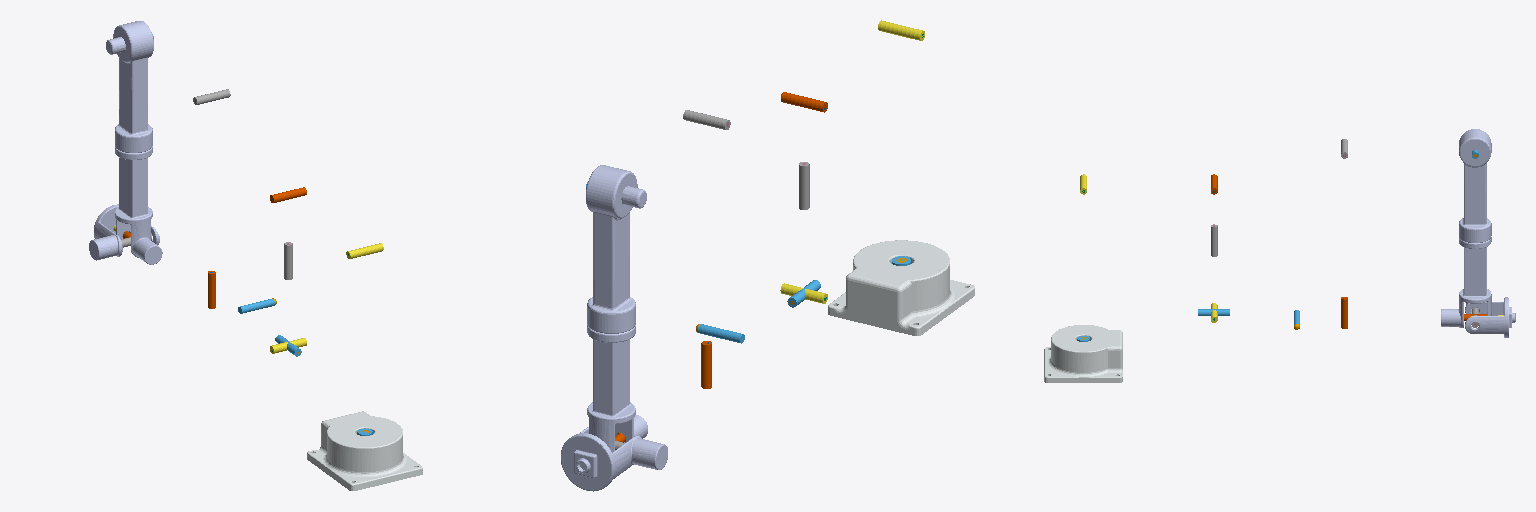
--- Render facts (derived) ---
3 views of the same robot in one strip: view 1: azimuth 30°, elevation 25°; view 2: azimuth 150°, elevation 25°; view 3: azimuth 270°, elevation 25° (orthographic).
Model twelvedof_new with 44 links and 43 joints (12 continuous, 31 fixed), rooted at world, posed every joint at zero.
Links seen in each view (by area): view 1: base_link, link9, link10, link12; view 2: base_link, link9, link10, link12; view 3: base_link, link9, link10, link12.
Link boxes in pixels (bbox=[...]): base_link: bbox=[307, 411, 422, 490]; link9: bbox=[106, 21, 153, 152]; link10: bbox=[115, 146, 162, 264]; link12: bbox=[89, 204, 159, 260]; base_link: bbox=[828, 240, 974, 335]; link9: bbox=[586, 165, 646, 333]; link10: bbox=[587, 325, 647, 452]; link12: bbox=[561, 427, 667, 491]; base_link: bbox=[1044, 325, 1122, 382]; link9: bbox=[1459, 129, 1491, 242]; link10: bbox=[1441, 237, 1491, 327]; link12: bbox=[1465, 297, 1515, 337].
Size in the robot's own frame: 0.235 by 1.44 by 0.791 metres.
4 mesh visuals loaded from 13 distinct referenced files (4 binary STL); not drawn: 9 (reference not matched to a file when rendering).

The robot description file, URDF, robot "twelvedof_new":
<?xml version="1.0" encoding="utf-8"?>
<!-- This URDF was automatically created by SolidWorks to URDF Exporter! Originally created by Stephen Brawner ([email redacted]) 
     Commit Version: 1.6.0-1-g15f4949  Build Version: 1.6.7594.29634
     For more information, please see http://wiki.ros.org/sw_urdf_exporter -->
<robot name="twelvedof_new">
  
  <link name="world"/>
    
  <joint name="worldjoint" type="fixed">
    <origin xyz="0 0 0" rpy="0 0 1.5708" />
    <parent link="world" />
    <child link="base_link" />
  </joint>

<!-- FIRST HALF OF ARM -->
  
  <link name="base_link">
    <visual>
      <origin xyz="0 0 0" rpy="0 0 0" />
      <geometry>
        <mesh filename="package://project/meshes/base_link.STL" />
      </geometry>
      <material name="">
        <color rgba="0.898039215686275 0.92156862745098 0.929411764705882 1" />
      </material>
    </visual>
    <!--<collision>
      <origin xyz="0 0 0" rpy="0 0 0" />
      <geometry>
        <mesh filename="package://project/meshes/base_link.STL" />
      </geometry>
    </collision>-->
  </link>
  
  <joint name="theta1" type="continuous">
    <origin xyz="0 0 0.0499999999999999" rpy="1.5707963267949 0 -3.14159265358979" />
    <parent link="base_link" />
    <child link="link1" />
    <axis xyz="0 1 0" />
    <dynamics damping="5.0"/>
  </joint>  
  
  <link name="link1">
    <visual>
      <origin xyz="0 0 0" rpy="0 0 0" />
      <geometry>
        <mesh filename="package://project/meshes/link1.STL" />
      </geometry>
      <material name="">
        <color rgba="0.792156862745098 0.819607843137255 0.933333333333333 1" />
      </material>
    </visual>
    <!--<collision>
      <origin xyz="0 0 0" rpy="0 0 0" />
      <geometry>
        <mesh filename="package://project/meshes/link1.STL" />
      </geometry>
    </collision>-->
  </link>
  
  <joint name="theta2" type="continuous">
    <origin xyz="0 0.57 0" rpy="0 -1.5707963267949 0" />
    <parent link="link1" />
    <child link="link2" />
    <axis xyz="1 0 0" />
    <dynamics damping="5.0"/>
  </joint>
  
  <link name="link2">
    <visual>
      <origin xyz="0 0 0" rpy="0 0 0" />
      <geometry>
        <mesh filename="package://project/meshes/link2.STL" />
      </geometry>
      <material name="">
        <color rgba="0.792156862745098 0.819607843137255 0.933333333333333 1" />
      </material>
    </visual>
    <!--<collision>
      <origin xyz="0 0 0" rpy="0 0 0" />
      <geometry>
        <mesh filename="package://project/meshes/link2.STL" />
      </geometry>
    </collision>-->
  </link>
    
  <joint name="theta3" type="continuous">
    <origin xyz="0 0 0.4" rpy="3.14159265358979 0 3.14159265358979" />
    <parent link="link2" />
    <child link="link3" />
    <axis xyz="1 0 0" />
    <dynamics damping="1.0"/>
  </joint>
  
  
  <link name="link3">
    <visual>
      <origin xyz="0 0 0" rpy="0 0 0" />
      <geometry>
        <mesh filename="package://project/meshes/link3.STL" />
      </geometry>
      <material name="">
        <color rgba="0.792156862745098 0.819607843137255 0.933333333333333 1" />
      </material>
    </visual>
    <!--<collision>
      <origin xyz="0 0 0" rpy="0 0 0" />
      <geometry>
        <mesh filename="package://project/meshes/link3.STL" />
      </geometry>
    </collision>-->
  </link>
  
  <joint name="theta4" type="continuous">
    <origin xyz="0 -0.19 0" rpy="3.14159265358979 0 3.14159265358979" />
    <parent link="link3" />
    <child link="link4" />
    <axis xyz="0 1 0" />
    <dynamics damping="0.2"/>
  </joint>
  
  <link name="link4">
    <visual>
      <origin xyz="0 0 0" rpy="0 3.14159265358979 0" />
      <geometry>
        <mesh filename="package://project/meshes/link4.STL" />
      </geometry>
      <material name="">
        <color rgba="0.792156862745098 0.819607843137255 0.933333333333333 1" />
      </material>
    </visual>
    <!--<collision>
      <origin xyz="0 0 0" rpy="0 3.14159265358979 0" />
      <geometry>
        <mesh filename="package://project/meshes/link4.STL" />
      </geometry>
    </collision>-->
  </link>
  
  <joint name="theta5" type="continuous">
    <origin xyz="0 -0.244 0" rpy="-1.5707963267949 0 3.14159265358979" />
    <parent link="link4" />
    <child link="link5" />
    <axis xyz="0 1 0" />
    <dynamics damping="0.2"/>
  </joint>
  
  <link name="link5">
    <visual>
      <origin xyz="0 0 0" rpy="0 0 0" />
      <geometry>
        <mesh filename="package://project/meshes/link5.STL" />
      </geometry>
      <material name="">
        <color rgba="0.792156862745098 0.819607843137255 0.933333333333333 1" />
      </material>
    </visual>
    <!--<collision>
      <origin xyz="0 0 0" rpy="0 0 0" />
      <geometry>
        <mesh filename="package://project/meshes/link5.STL" />
      </geometry>
    </collision>-->
  </link>

  <joint name="theta6" type="continuous">
    <origin xyz="0 0 0" rpy="3.1416 -1.5708 0" />
    <parent link="link5" />
    <child link="link6" />
    <axis xyz="0 0 1" />
    <dynamics damping="0.2"/>
  </joint>

  <link name="link6">
    <visual>
      <origin xyz="0 0 0" rpy="0 0 0" />
      <geometry>
        <mesh filename="package://project/meshes/link6.STL" />
      </geometry>
      <material name="">
        <color rgba="0.792156862745098 0.819607843137255 0.933333333333333 1" />
      </material>
    </visual>
    <!--<collision>
      <origin xyz="0 0 0" rpy="0 0 0" />
      <geometry>
        <mesh filename="package://project/meshes/link6.STL" />
      </geometry>
    </collision>-->
  </link>

  <joint name="final1" type="fixed">
    <parent link="link6"/>
    <child  link="tip_elbow"/>
    <origin xyz="0 0.2535 0.1" rpy="1.5708 0 -1.5708"/>
  </joint>

  <link name="tip_elbow"/>
  
 
 <!-- SECOND HALF OF ARM -->

  <joint name="theta7" type="continuous">
    <origin xyz="0 0.4 0" rpy="1.5707963267949 -1.5707963267949 0" />
    <parent link="link6" />
    <child link="link7" />
    <axis xyz="0 1 0" />
    <dynamics damping="5.0"/>
  </joint>

  <link name="link7">
    <visual>
      <origin xyz="0 0 0" rpy="0 0 0" />
      <geometry>
        <mesh filename="package://project/meshes/link7.STL" />
      </geometry>
      <material name="">
        <color rgba="0.792156862745098 0.819607843137255 0.933333333333333 1" />
      </material>
    </visual>
    <!--<collision>
      <origin xyz="0 0 0" rpy="0 0 0" />
      <geometry>
        <mesh filename="package://project/meshes/link7.STL" />
      </geometry>
    </collision>-->
  </link>

  <joint name="theta8" type="continuous">
    <origin xyz="0 0.555 0" rpy="0 0 3.14159265358979" />
    <parent link="link7" />
    <child link="link8" />
    <axis xyz="1 0 0" />
    <dynamics damping="5.0"/>
  </joint>
  
  <link name="link8">
    <visual>
      <origin xyz="0 0 0" rpy="0 0 0" />
      <geometry>
        <mesh filename="package://project/meshes/link8.STL" />
      </geometry>
      <material name="">
        <color rgba="0.792156862745098 0.819607843137255 0.933333333333333 1" />
      </material>
    </visual>
    <!--<collision>
      <origin xyz="0 0 0" rpy="0 0 0" />
      <geometry>
        <mesh filename="package://project/meshes/link8.STL" />
      </geometry>
    </collision>-->
  </link>

  <joint name="theta9" type="continuous">
    <origin xyz="0 0 -0.4" rpy="-3.14159263868864 0 0" />
    <parent link="link8" />
    <child link="link9" />
    <axis xyz="1 0 0" />
    <dynamics damping="1.0"/>
  </joint>


  <link name="link9">
    <visual>
      <origin xyz="0 0 0" rpy="0 0 0" />
      <geometry>
        <mesh filename="package://project/meshes/link9.STL" />
      </geometry>
      <material name="">
        <color rgba="0.792156862745098 0.819607843137255 0.933333333333333 1" />
      </material>
    </visual>
    <!--<collision>
      <origin xyz="0 0 0" rpy="0 0 0" />
      <geometry>
        <mesh filename="package://project/meshes/link9.STL" />
      </geometry>
    </collision>-->
  </link>

  <joint name="theta10" type="continuous">
    <origin xyz="0.005 -0.26 0" rpy="3.14159265358979 0 3.14159265358979" />
    <parent link="link9" />
    <child link="link10" />
    <axis xyz="0 1 0" />
    <dynamics damping="0.2"/>
  </joint>

  <link name="link10">
    <visual>
      <origin xyz="0 0 0" rpy="0 0 0" />
      <geometry>
        <mesh filename="package://project/meshes/link10.STL" />
      </geometry>
      <material name="">
        <color rgba="0.792156862745098 0.819607843137255 0.933333333333333 1" />
      </material>
    </visual>
    <!--<collision>
      <origin xyz="0 0 0" rpy="0 0 0" />
      <geometry>
        <mesh filename="package://project/meshes/link10.STL" />
      </geometry>
    </collision>-->
  </link>

  <joint name="theta11" type="continuous">
    <origin xyz="0 -0.314 0" rpy="-1.5707963267949 0 3.14159265358979" />
    <parent link="link10" />
    <child link="link11" />
    <axis xyz="0 1 0" />
    <dynamics damping="0.2"/>
  </joint>

  <link name="link11">
    <visual>
      <origin xyz="0 0 0" rpy="0 0 0" />
      <geometry>
        <mesh filename="package://project/meshes/link11.STL" />
      </geometry>
      <material name="">
        <color rgba="0.792156862745098 0.819607843137255 0.933333333333333 1" />
      </material>
    </visual>
    <!--<collision>
      <origin xyz="0 0 0" rpy="0 0 0" />
      <geometry>
        <mesh filename="package://project/meshes/link11.STL" />
      </geometry>
    </collision>-->
  </link>

  <joint name="theta12" type="continuous">
    <origin xyz="0 0 0" rpy="0 1.5707963267949 0" />
    <parent link="link11" />
    <child link="link12" />
    <axis xyz="0 0 1" />
    <dynamics damping="0.2"/>
  </joint>

  <link name="link12">
    <visual>
      <origin xyz="0 0 0" rpy="0 0 0" />
      <geometry>
        <mesh filename="package://project/meshes/link12.STL" />
      </geometry>
      <material name="">
        <color rgba="0.792156862745098 0.819607843137255 0.933333333333333 1" />
      </material>
    </visual>
    <!--<collision>
      <origin xyz="0 0 0" rpy="0 0 0" />
      <geometry>
        <mesh filename="package://project/meshes/link12.STL" />
      </geometry>
    </collision>-->
  </link>

  <joint name="final2" type="fixed">
    <parent link="link12"/>
    <child  link="tip_full"/>
    <origin xyz="0 0.1 0" rpy="0 -1.5708 0"/>
  </joint>

  <link name="tip_full"/>













  <!-- *************************************************** -->
  <!-- ****** Building Blocks (Visual AND Inertial) ****** -->
  <!-- *************************************************** -->

  <!-- *** base_link-Fixed: Mount 1, Motor 1 *** -->

  <joint name="attach-mount1" type="fixed">
    <parent link="base_link"/>
    <child  link="mount1"/>
  </joint>
  <link name="mount1">
    <visual>
      <origin xyz="0 0 0.05" rpy="0 0 0"/>
      <geometry>
  <cylinder length="0.1" radius="0.011"/>
      </geometry>
      <material name="black"/>
    </visual>
    <collision>
      <origin xyz="0 0 0.05" rpy="0 0 0"/>
      <geometry>
  <cylinder length="0.1" radius="0.011"/>
      </geometry>
    </collision>
    <inertial>
      <origin xyz="0 0 0.05" rpy="0 0 0"/>
      <mass value="0.2"/>
      <inertia
        ixx="0.000687" ixy="0.0" ixz="0.0"
        iyy="0.000687" iyz="0.0"
        izz="0.000040"/>
    </inertial>
  </link>

  <joint name="attach-motor1" type="fixed">
    <parent link="base_link"/>
    <child  link="motor1"/>
  </joint>
  <link name="motor1">
    <visual>
      <origin xyz="0 0 0.05" rpy="0 0 0"/>
      <geometry>
  <cylinder length="0.1" radius="0.02"/>
      </geometry>
      <material name="gray"/>
    </visual>
    <collision>
      <origin xyz="0 0 0.05" rpy="0 0 0"/>
      <geometry>
  <cylinder length="0.1" radius="0.02"/>
      </geometry>
    </collision>
    <inertial>
      <origin xyz="0 0 0.05" rpy="0 0 0"/>
      <mass value="2.0"/>
      <inertia
        ixx="0.007917" ixy="0.0" ixz="0.0"
        iyy="0.007917" iyz="0.0"
        izz="0.002500"/>
    </inertial>
  </link>


  <!-- *** Motor 1 Output: Mount 2, Motor 2 *** -->

  <joint name="attach-mount2" type="fixed">
    <parent link="link1"/>
    <child  link="mount2"/>
  </joint>
  <link name="mount2">
    <visual>
      <origin xyz="0 0.57 0" rpy="0 0 -1.5708"/>
      <geometry>
  <cylinder length="0.1" radius="0.005"/>
      </geometry>
      <material name="black"/>
    </visual>
    <collision>
      <origin xyz="0 0.57 0" rpy="0 0 -1.5708"/>
      <geometry>
  <cylinder length="0.1" radius="0.005"/>
      </geometry>
    </collision>
    <inertial>
      <origin xyz="0 0.57 0" rpy="0 0 -1.5708"/>
      <mass value="0.2"/>
      <inertia
        ixx="0.000687" ixy="0.0" ixz="0.0"
        iyy="0.000687" iyz="0.0"
        izz="1.000040"/>
    </inertial>
  </link>

  <joint name="attach-motor2" type="fixed">
    <parent link="link1"/>
    <child  link="motor2"/>
  </joint>
  <link name="motor2">
    <visual>
      <origin xyz="0 0.57 0" rpy="0 0 -1.5708"/>
      <geometry>
  <cylinder length="0.1" radius="0.011"/>
      </geometry>
      <material name="gray"/>
    </visual>
    <collision>
      <origin xyz="0 0.57 0" rpy="0 0 -1.5708"/>
      <geometry>
  <cylinder length="0.1" radius="0.011"/>
      </geometry>
    </collision>
    <inertial>
      <origin xyz="0 0.57 0" rpy="0 0 -1.5708"/>
      <mass value="2.0"/>
      <inertia
        ixx="0.007917" ixy="0.0" ixz="0.0"
        iyy="0.007917" iyz="0.0"
        izz="0.002500"/>
    </inertial>
  </link>


  <!-- *** Motor 2 Output: Mount 3, Motor 3 *** -->

  <joint name="attach-mount3" type="fixed">
    <parent link="link2"/>
    <child  link="mount3"/>
  </joint>
  <link name="mount3">
    <visual>
      <origin xyz="0 0 0.4" rpy="0 -1.5708 0"/>
      <geometry>
  <cylinder length="0.1" radius="0.005"/>
      </geometry>
      <material name="black"/>
    </visual>
    <collision>
      <origin xyz="0 0 0.4" rpy="0 -1.5708 0"/>
      <geometry>
  <cylinder length="0.1" radius="0.005"/>
      </geometry>
    </collision>
    <inertial>
      <origin xyz="0 0 0.4" rpy="0 -1.5708 0"/>
      <mass value="0.2"/>
      <inertia
        ixx="1.000687" ixy="0.0" ixz="0.0"
        iyy="0.000687" iyz="0.0"
        izz="0.000040"/>
    </inertial>
  </link>

  <joint name="attach-motor3" type="fixed">
    <parent link="link2"/>
    <child  link="motor3"/>
  </joint>
  <link name="motor3">
    <visual>
      <origin xyz="0 0 0.4" rpy="0 -1.5708 0"/>
      <geometry>
  <cylinder length="0.1" radius="0.011"/>
      </geometry>
      <material name="gray"/>
    </visual>
    <collision>
      <origin xyz="0 0 0.4" rpy="0 -1.5708 0"/>
      <geometry>
  <cylinder length="0.1" radius="0.011"/>
      </geometry>
    </collision>
    <inertial>
      <origin xyz="0 0 0.4" rpy="0 -1.5708 0"/>
      <mass value="2.0"/>
      <inertia
        ixx="0.007917" ixy="0.0" ixz="0.0"
        iyy="0.007917" iyz="0.0"
        izz="0.002500"/>
    </inertial>
  </link>


  <!-- *** Motor 3 Output: Mount 4, Motor 4 *** -->

  <joint name="attach-mount4" type="fixed">
    <parent link="link3"/>
    <child  link="mount4"/>
  </joint>
  <link name="mount4">
    <visual>
      <origin xyz="0 -0.19 0" rpy="-1.5708 0 0"/>
      <geometry>
  <cylinder length="0.1" radius="0.005"/>
      </geometry>
      <material name="black"/>
    </visual>
    <collision>
      <origin xyz="0 -0.19 0" rpy="-1.5708 0 0"/>
      <geometry>
  <cylinder length="0.1" radius="0.005"/>
      </geometry>
    </collision>
    <inertial>
      <origin xyz="0 -0.19 0" rpy="-1.5708 0 0"/>
      <mass value="0.2"/>
      <inertia
        ixx="0.000687" ixy="0.0" ixz="0.0"
        iyy="0.000687" iyz="0.0"
        izz="1.000040"/>
    </inertial>
  </link>

  <joint name="attach-motor4" type="fixed">
    <parent link="link3"/>
    <child  link="motor4"/>
  </joint>
  <link name="motor4">
    <visual>
      <origin xyz="0 -0.19 0" rpy="-1.5708 0 0"/>
      <geometry>
  <cylinder length="0.1" radius="0.011"/>
      </geometry>
      <material name="gray"/>
    </visual>
    <collision>
      <origin xyz="0 -0.19 0" rpy="-1.5708 0 0"/>
      <geometry>
  <cylinder length="0.1" radius="0.011"/>
      </geometry>
    </collision>
    <inertial>
      <origin xyz="0 -0.19 0" rpy="-1.5708 0 0"/>
      <mass value="1.0"/>
      <inertia
        ixx="0.000990" ixy="0.0" ixz="0.0"
        iyy="0.000990" iyz="0.0"
        izz="0.000313"/>
    </inertial>
  </link>


  <!-- *** Motor 4 Output: Mount 5, Motor 5 *** -->

  <joint name="attach-mount5" type="fixed">
    <parent link="link4"/>
    <child  link="mount5"/>
  </joint>
  <link name="mount5">
    <visual>
      <origin xyz="0 -0.244 0" rpy="0 0 -1.5708"/>
      <geometry>
  <cylinder length="0.1" radius="0.005"/>
      </geometry>
      <material name="black"/>
    </visual>
    <collision>
      <origin xyz="0 -0.244 0" rpy="0 0 -1.5708"/>
      <geometry>
  <cylinder length="0.1" radius="0.005"/>
      </geometry>
    </collision>
    <inertial>
      <origin xyz="0 -0.244 0" rpy="0 0 -1.5708"/>
      <mass value="0.2"/>
      <inertia
        ixx="0.500687" ixy="0.0" ixz="0.0"
        iyy="0.000687" iyz="0.0"
        izz="0.000040"/>
    </inertial>
  </link>

  <joint name="attach-motor5" type="fixed">
    <parent link="link4"/>
    <child  link="motor5"/>
  </joint>
  <link name="motor5">
    <visual>
      <origin xyz="0 -0.244 0" rpy="0 0 -1.5708"/>
      <geometry>
  <cylinder length="0.1" radius="0.011"/>
      </geometry>
      <material name="gray"/>
    </visual>
    <collision>
      <origin xyz="0 -0.244 0" rpy="0 0 -1.5708"/>
      <geometry>
  <cylinder length="0.1" radius="0.011"/>
      </geometry>
    </collision>
    <inertial>
      <origin xyz="0 -0.244 0" rpy="0 0 -1.5708"/>
       <mass value="1.0"/>
      <inertia
        ixx="0.000990" ixy="0.0" ixz="0.0"
        iyy="0.000990" iyz="0.0"
        izz="0.000313"/>
    </inertial>
  </link>


  <!-- *** Motor 5 Output: Mount 6, Motor 6 *** -->

  <joint name="attach-mount6" type="fixed">
    <parent link="link5"/>
    <child  link="mount6"/>
  </joint>
  <link name="mount6">
    <visual>
      <origin xyz="0 0 0" rpy="3.1416 -1.5708 0"/>
      <geometry>
  <cylinder length="0.1" radius="0.005"/>
      </geometry>
      <material name="black"/>
    </visual>
    <collision>
      <origin xyz="0 0 0" rpy="3.1416 -1.5708 0"/>
      <geometry>
  <cylinder length="0.1" radius="0.005"/>
      </geometry>
    </collision>
    <inertial>
      <origin xyz="0 0 0" rpy="3.1416 -1.5708 0"/>
      <mass value="0.1"/>
      <inertia
        ixx="0.000336" ixy="0.0" ixz="0.0"
        iyy="0.000336" iyz="0.0"
        izz="0.500005"/>
    </inertial>
  </link>

  <joint name="attach-motor6" type="fixed">
    <parent link="link5"/>
    <child  link="motor6"/>
  </joint>
  <link name="motor6">
    <visual>
      <origin xyz="0 0 0" rpy="3.1416 -1.5708 0"/>
      <geometry>
  <cylinder length="0.1" radius="0.011"/>
      </geometry>
      <material name="gray"/>
    </visual>
    <collision>
      <origin xyz="0 0 0" rpy="3.1416 -1.5708 0"/>
      <geometry>
  <cylinder length="0.1" radius="0.011"/>
      </geometry>
    </collision>
    <inertial>
      <origin xyz="0 0 0" rpy="3.1416 -1.5708 0"/>
       <mass value="1.0"/>
      <inertia
        ixx="0.500990" ixy="0.0" ixz="0.0"
        iyy="0.000990" iyz="0.0"
        izz="0.000313"/>
    </inertial>
  </link>


  <!-- *** Motor 6 Output: Mount 7, Motor 7 *** -->

  <joint name="attach-mount7" type="fixed">
    <parent link="link6"/>
    <child  link="mount7"/>
  </joint>
  <link name="mount7">
    <visual>
      <origin xyz="0 0.4 0" rpy="0 1.5708 0"/>
      <geometry>
  <cylinder length="0.1" radius="0.005"/>
      </geometry>
      <material name="black"/>
    </visual>
    <collision>
      <origin xyz="0 0.4 0" rpy="0 1.5708 0"/>
      <geometry>
  <cylinder length="0.1" radius="0.005"/>
      </geometry>
    </collision>
    <inertial>
      <origin xyz="0 0.4 0" rpy="0 1.5708 0"/>
      <mass value="0.1"/>
      <inertia
        ixx="0.000687" ixy="0.0" ixz="0.0"
        iyy="0.000687" iyz="0.0"
        izz="0.000040"/>
    </inertial>
  </link>

  <joint name="attach-motor7" type="fixed">
    <parent link="link6"/>
    <child  link="motor7"/>
  </joint>
  <link name="motor7">
    <visual>
      <origin xyz="0 0.4 0" rpy="0 1.5708 0"/>
      <geometry>
  <cylinder length="0.1" radius="0.011"/>
      </geometry>
      <material name="gray"/>
    </visual>
    <collision>
      <origin xyz="0 0.4 0" rpy="0 1.5708 0"/>
      <geometry>
  <cylinder length="0.1" radius="0.011"/>
      </geometry>
    </collision>
    <inertial>
      <origin xyz="0 0.4 0" rpy="0 1.5708 0"/>
      <mass value="0.1"/>
      <inertia
        ixx="0.007917" ixy="0.0" ixz="0.0"
        iyy="0.007917" iyz="0.0"
        izz="0.002500"/>
    </inertial>
  </link>


  <!-- *** Motor 7 Output: Mount 8, Motor 8 *** -->

  <joint name="attach-mount8" type="fixed">
    <parent link="link7"/>
    <child  link="mount8"/>
  </joint>
  <link name="mount8">
    <visual>
      <origin xyz="0 0.555 0" rpy="0 1.5708 0"/>
      <geometry>
  <cylinder length="0.1" radius="0.005"/>
      </geometry>
      <material name="black"/>
    </visual>
    <collision>
      <origin xyz="0 0.555 0" rpy="0 1.5708 0"/>
      <geometry>
  <cylinder length="0.1" radius="0.005"/>
      </geometry>
    </collision>
    <inertial>
      <origin xyz="0 0.555 0" rpy="0 1.5708 0"/>
      <mass value="0.1"/>
      <inertia
        ixx="0.000687" ixy="0.0" ixz="0.0"
        iyy="0.000687" iyz="0.0"
        izz="1.000040"/>
    </inertial>
  </link>

  <joint name="attach-motor8" type="fixed">
    <parent link="link7"/>
    <child  link="motor8"/>
  </joint>
  <link name="motor8">
    <visual>
      <origin xyz="0 0.555 0" rpy="0 1.5708 0"/>
      <geometry>
  <cylinder length="0.1" radius="0.011"/>
      </geometry>
      <material name="gray"/>
    </visual>
    <collision>
      <origin xyz="0 0.555 0" rpy="0 1.5708 0"/>
      <geometry>
  <cylinder length="0.1" radius="0.011"/>
      </geometry>
    </collision>
    <inertial>
      <origin xyz="0 0.555 0" rpy="0 1.5708 0"/>
      <mass value="0.1"/>
      <inertia
        ixx="0.007917" ixy="0.0" ixz="0.0"
        iyy="0.007917" iyz="0.0"
        izz="0.002500"/>
    </inertial>
  </link>


  <!-- *** Motor 8 Output: Mount 9, Motor 9 *** -->

  <joint name="attach-mount9" type="fixed">
    <parent link="link8"/>
    <child  link="mount9"/>
  </joint>
  <link name="mount9">
    <visual>
      <origin xyz="0 0 -0.4" rpy="0 -1.5708 0"/>
      <geometry>
  <cylinder length="0.1" radius="0.005"/>
      </geometry>
      <material name="black"/>
    </visual>
    <collision>
      <origin xyz="0 0 -0.4" rpy="0 -1.5708 0"/>
      <geometry>
  <cylinder length="0.1" radius="0.005"/>
      </geometry>
    </collision>
    <inertial>
      <origin xyz="0 0 -0.4" rpy="0 -1.5708 0"/>
      <mass value="0.1"/>
      <inertia
        ixx="1.000687" ixy="0.0" ixz="0.0"
        iyy="0.000687" iyz="0.0"
        izz="0.000040"/>
    </inertial>
  </link>

  <joint name="attach-motor9" type="fixed">
    <parent link="link8"/>
    <child  link="motor9"/>
  </joint>
  <link name="motor9">
    <visual>
      <origin xyz="0 0 -0.4" rpy="0 -1.5708 0"/>
      <geometry>
  <cylinder length="0.1" radius="0.011"/>
      </geometry>
      <material name="gray"/>
    </visual>
    <collision>
      <origin xyz="0.005 0 -0.4" rpy="0 -1.5708 0"/>
      <geometry>
  <cylinder length="0.1" radius="0.011"/>
      </geometry>
    </collision>
    <inertial>
      <origin xyz="0 0 -0.4" rpy="0 -1.5708 0"/>
      <mass value="0.1"/>
      <inertia
        ixx="0.007917" ixy="0.0" ixz="0.0"
        iyy="0.007917" iyz="0.0"
        izz="0.002500"/>
    </inertial>
  </link>


  <!-- *** Motor 9 Output: Mount 10, Motor 10 *** -->

  <joint name="attach-mount10" type="fixed">
    <parent link="link9"/>
    <child  link="mount10"/>
  </joint>
  <link name="mount10">
    <visual>
      <origin xyz="0.005 -0.26 0" rpy="-1.5708 0 0"/>
      <geometry>
  <cylinder length="0.1" radius="0.005"/>
      </geometry>
      <material name="black"/>
    </visual>
    <collision>
      <origin xyz="0.005 -0.26 0" rpy="-1.5708 0 0"/>
      <geometry>
  <cylinder length="0.1" radius="0.005"/>
      </geometry>
    </collision>
    <inertial>
      <origin xyz="0.005 -0.26 0" rpy="-1.5708 0 0"/>
      <mass value="0.1"/>
      <inertia
        ixx="0.000687" ixy="0.0" ixz="0.0"
        iyy="0.000687" iyz="0.0"
        izz="1.000040"/>
    </inertial>
  </link>

  <joint name="attach-motor10" type="fixed">
    <parent link="link9"/>
    <child  link="motor10"/>
  </joint>
  <link name="motor10">
    <visual>
      <origin xyz="0.005 -0.26 0" rpy="-1.5708 0 0"/>
      <geometry>
  <cylinder length="0.1" radius="0.011"/>
      </geometry>
      <material name="gray"/>
    </visual>
    <collision>
      <origin xyz="0.005 -0.26 0" rpy="-1.5708 0 0"/>
      <geometry>
  <cylinder length="0.1" radius="0.011"/>
      </geometry>
    </collision>
    <inertial>
      <origin xyz="0.005 -0.26 0" rpy="-1.5708 0 0"/>
      <mass value="0.1"/>
      <inertia
        ixx="0.000990" ixy="0.0" ixz="0.0"
        iyy="0.000990" iyz="0.0"
        izz="0.000313"/>
    </inertial>
  </link>


  <!-- *** Motor 10 Output: Mount 11, Motor 11 *** -->

  <joint name="attach-mount11" type="fixed">
    <parent link="link10"/>
    <child  link="mount11"/>
  </joint>
  <link name="mount11">
    <visual>
      <origin xyz="0 -0.314 0" rpy="0 0 -1.5708"/>
      <geometry>
  <cylinder length="0.1" radius="0.005"/>
      </geometry>
      <material name="black"/>
    </visual>
    <collision>
      <origin xyz="0 -0.314 0" rpy="0 0 -1.5708"/>
      <geometry>
  <cylinder length="0.1" radius="0.005"/>
      </geometry>
    </collision>
    <inertial>
      <origin xyz="0 -0.314 0" rpy="0 0 -1.5708"/>
      <mass value="0.1"/>
      <inertia
        ixx="0.500687" ixy="0.0" ixz="0.0"
        iyy="0.000687" iyz="0.0"
        izz="0.000040"/>
    </inertial>
  </link>

  <joint name="attach-motor11" type="fixed">
    <parent link="link10"/>
    <child  link="motor11"/>
  </joint>
  <link name="motor11">
    <visual>
      <origin xyz="0 -0.314 0" rpy="0 0 -1.5708"/>
      <geometry>
  <cylinder length="0.1" radius="0.011"/>
      </geometry>
      <material name="gray"/>
    </visual>
    <collision>
      <origin xyz="0 -0.314 0" rpy="0 0 -1.5708"/>
      <geometry>
  <cylinder length="0.1" radius="0.011"/>
      </geometry>
    </collision>
    <inertial>
      <origin xyz="0 -0.314 0" rpy="0 0 -1.5708"/>
      <mass value="0.1"/>
      <inertia
        ixx="0.000990" ixy="0.0" ixz="0.0"
        iyy="0.000990" iyz="0.0"
        izz="0.000313"/>
    </inertial>
  </link>


  <!-- *** Motor 11 Output: Mount 12, Motor 12 *** -->

  <joint name="attach-mount12" type="fixed">
    <parent link="link11"/>
    <child  link="mount12"/>
  </joint>
  <link name="mount12">
    <visual>
      <origin xyz="0 0 0" rpy="3.1416 -1.5708 0"/>
      <geometry>
  <cylinder length="0.1" radius="0.005"/>
      </geometry>
      <material name="black"/>
    </visual>
    <collision>
      <origin xyz="0 0 0" rpy="3.1416 -1.5708 0"/>
      <geometry>
  <cylinder length="0.1" radius="0.005"/>
      </geometry>
    </collision>
    <inertial>
      <origin xyz="0 0 0" rpy="3.1416 -1.5708 0"/>
      <mass value="0.1"/>
      <inertia
        ixx="0.000336" ixy="0.0" ixz="0.0"
        iyy="0.000336" iyz="0.0"
        izz="0.500005"/>
    </inertial>
  </link>

  <joint name="attach-motor12" type="fixed">
    <parent link="link11"/>
    <child  link="motor12"/>
  </joint>
  <link name="motor12">
    <visual>
      <origin xyz="0 0 0" rpy="3.1416 -1.5708 0"/>
      <geometry>
  <cylinder length="0.1" radius="0.011"/>
      </geometry>
      <material name="gray"/>
    </visual>
    <collision>
      <origin xyz="0 0 0" rpy="3.1416 -1.5708 0"/>
      <geometry>
  <cylinder length="0.1" radius="0.011"/>
      </geometry>
    </collision>
    <inertial>
      <origin xyz="0 0 0" rpy="3.1416 -1.5708 0"/>
      <mass value="0.1"/>
      <inertia
        ixx="0.500990" ixy="0.0" ixz="0.0"
        iyy="0.000990" iyz="0.0"
        izz="0.000313"/>
    </inertial>
  </link>



  <!-- *** Motor 6 Output: Sphere1 *** -->

  <joint name="attach-sphere" type="fixed">
    <parent link="tip_elbow"/>
    <child  link="sphere"/>
  </joint>
  <link name="sphere">
    <visual>
      <origin xyz="0 0 0" rpy="0 0 0"/>
      <geometry>
	      <sphere radius="0.01"/>
      </geometry>
      <material name="green"/>
    </visual>
    <collision>
      <origin xyz="0 0 -0.05" rpy="0 0 0"/>
      <geometry>
	      <sphere radius="0.01"/>
      </geometry>
      <material name="green"/>
    </collision>
    <inertial>
      <origin xyz="0 0 0" rpy="0 0 0"/>
      <mass value="0.01"/>
      <inertia
        ixx="0.01" ixy="0.0" ixz="0.0"
        iyy="0.01" iyz="0.0"
        izz="0.01"/>
    </inertial>
  </link>

  <joint name="attach-cylinder" type="fixed">
    <parent link="tip_elbow"/>
    <child  link="cylinder"/>
  </joint>
  <link name="cylinder">
    <visual>
      <origin xyz="0 -0.05 0" rpy="1.5708 0 0"/>
      <geometry>
	      <cylinder length="0.1" radius="0.01"/>
      </geometry>
      <material name="gray"/>
    </visual>
    <collision>
      <origin xyz="0 -0.05 0" rpy="1.5708 0 0"/>
      <geometry>
	      <cylinder length="0.1" radius="0.01"/>
      </geometry>
    </collision>
    <inertial>
      <origin xyz="0 0 0" rpy="1.5708 0 0"/>
      <mass value="0.01"/>
      <inertia
        ixx="0.500990" ixy="0.0" ixz="0.0"
        iyy="0.000990" iyz="0.0"
        izz="0.000313"/>
    </inertial>
  </link>

  <!-- *** Motor 12 Output: Sphere2 *** -->

  <joint name="attach-sphere2" type="fixed">
    <parent link="tip_full"/>
    <child  link="sphere2"/>
  </joint>
  <link name="sphere2">
    <visual>
      <origin xyz="0 0 0" rpy="0 0 0"/>
      <geometry>
	      <sphere radius="0.01"/>
      </geometry>
      <material name="green"/>
    </visual>
    <collision>
      <origin xyz="0 -0.05 0" rpy="0 0 0"/>
      <geometry>
	      <sphere radius="0.01"/>
      </geometry>
      <material name="green"/>
    </collision>
    <inertial>
      <origin xyz="0 0 0" rpy="0 0 0"/>
      <mass value="0.1"/>
      <inertia
        ixx="0.01" ixy="0.0" ixz="0.0"
        iyy="0.01" iyz="0.0"
        izz="0.01"/>
    </inertial>
  </link>

  <joint name="attach-cylinder2" type="fixed">
    <parent link="tip_full"/>
    <child  link="cylinder2"/>
  </joint>
  <link name="cylinder2">
    <visual>
      <origin xyz="0 -0.015 0" rpy="1.5708 0 0"/>
      <geometry>
	      <cylinder length="0.03" radius="0.01"/>
      </geometry>
      <material name="gray"/>
    </visual>
    <collision>
      <origin xyz="0 -0.015 0" rpy="1.5708 0 0"/>
      <geometry>
	      <cylinder length="0.03" radius="0.01"/>
      </geometry>
    </collision>
    <inertial>
      <origin xyz="0 0 0" rpy="1.5708 0 0"/>
      <mass value="0.1"/>
      <inertia
        ixx="0.500990" ixy="0.0" ixz="0.0"
        iyy="0.000990" iyz="0.0"
        izz="0.000313"/>
    </inertial>
  </link>



  <!-- *************************************************** -->
  <!-- ******************* Gazebo Colors ***************** -->
  <!-- *************************************************** -->
  <gazebo reference="base_link"> <material>Gazebo/Gray</material>  </gazebo>
  <gazebo reference="link1"> <material>Gazebo/Grass</material>  </gazebo>
  <gazebo reference="link2"> <material>Gazebo/Grass</material>  </gazebo>
  <gazebo reference="link3"> <material>Gazebo/Grass</material>  </gazebo>
  <gazebo reference="link4"> <material>Gazebo/Grass</material>  </gazebo>
  <gazebo reference="link5"> <material>Gazebo/Grass</material>  </gazebo>
  <gazebo reference="link6"> <material>Gazebo/Grass</material>  </gazebo>
  <gazebo reference="link7"> <material>Gazebo/Grass</material>  </gazebo>
  <gazebo reference="link8"> <material>Gazebo/Grass</material>  </gazebo>
  <gazebo reference="link9"> <material>Gazebo/Grass</material>  </gazebo>
  <gazebo reference="link10"> <material>Gazebo/Grass</material>  </gazebo>
  <gazebo reference="link11"> <material>Gazebo/Grass</material>  </gazebo>
  <gazebo reference="link12"> <material>Gazebo/Grass</material>  </gazebo>

  <gazebo reference="motor1"> <material>Gazebo/Gray</material>  </gazebo>
  <gazebo reference="motor2"> <material>Gazebo/Gray</material>  </gazebo>
  <gazebo reference="motor3"> <material>Gazebo/Gray</material>  </gazebo>
  <gazebo reference="motor4"> <material>Gazebo/Gray</material>  </gazebo>
  <gazebo reference="motor5"> <material>Gazebo/Gray</material>  </gazebo>
  <gazebo reference="motor6"> <material>Gazebo/Gray</material>  </gazebo>
  <gazebo reference="motor7"> <material>Gazebo/Gray</material>  </gazebo>
  <gazebo reference="motor8"> <material>Gazebo/Gray</material>  </gazebo>
  <gazebo reference="motor9"> <material>Gazebo/Gray</material>  </gazebo>
  <gazebo reference="motor10"> <material>Gazebo/Gray</material>  </gazebo>
  <gazebo reference="motor11"> <material>Gazebo/Gray</material>  </gazebo>
  <gazebo reference="motor12"> <material>Gazebo/Gray</material>  </gazebo>

  <gazebo reference="mount1">   <material>Gazebo/Black</material> </gazebo>
  <gazebo reference="mount2">   <material>Gazebo/Black</material> </gazebo>
  <gazebo reference="mount3">   <material>Gazebo/Black</material> </gazebo>
  <gazebo reference="mount4">   <material>Gazebo/Black</material> </gazebo>
  <gazebo reference="mount5">   <material>Gazebo/Black</material> </gazebo>
  <gazebo reference="mount6">   <material>Gazebo/Black</material> </gazebo>
  <gazebo reference="mount7">   <material>Gazebo/Black</material> </gazebo>
  <gazebo reference="mount8">   <material>Gazebo/Black</material> </gazebo>
  <gazebo reference="mount9">   <material>Gazebo/Black</material> </gazebo>
  <gazebo reference="mount10">   <material>Gazebo/Black</material> </gazebo>
  <gazebo reference="mount11">   <material>Gazebo/Black</material> </gazebo>
  <gazebo reference="mount12">   <material>Gazebo/Black</material> </gazebo>

  <gazebo reference="sphere">  <material>Gazebo/Green</material>  </gazebo>
  <gazebo reference="sphere2">  <material>Gazebo/Green</material>  </gazebo>  
 



  <!-- *************************************************** -->
  <!-- ************** Gazebo Transmissions *************** -->
  <!-- *************************************************** -->

  <transmission name="trans1">
    <type>transmission_interface/SimpleTransmission</type>
    <joint name="theta1">
      <hardwareInterface>hardware_interface/EffortJointInterface</hardwareInterface>
    </joint>
    <actuator name="motor1">
      <mechanicalReduction>1</mechanicalReduction>
      <hardwareInterface>hardware_interface/EffortJointInterface</hardwareInterface>
    </actuator>
  </transmission>
  
  <transmission name="trans2">
    <type>transmission_interface/SimpleTransmission</type>
    <joint name="theta2">
      <hardwareInterface>hardware_interface/EffortJointInterface</hardwareInterface>
    </joint>
    <actuator name="motor2">
      <mechanicalReduction>1</mechanicalReduction>
      <hardwareInterface>hardware_interface/EffortJointInterface</hardwareInterface>
    </actuator>
  </transmission>
  
  <transmission name="trans3">
    <type>transmission_interface/SimpleTransmission</type>
    <joint name="theta3">
      <hardwareInterface>hardware_interface/EffortJointInterface</hardwareInterface>
    </joint>
    <actuator name="motor3">
      <mechanicalReduction>1</mechanicalReduction>
      <hardwareInterface>hardware_interface/EffortJointInterface</hardwareInterface>
    </actuator>
  </transmission>
  
  <transmission name="trans4">
    <type>transmission_interface/SimpleTransmission</type>
    <joint name="theta4">
      <hardwareInterface>hardware_interface/EffortJointInterface</hardwareInterface>
    </joint>
    <actuator name="motor4">
      <mechanicalReduction>1</mechanicalReduction>
      <hardwareInterface>hardware_interface/EffortJointInterface</hardwareInterface>
    </actuator>
  </transmission>
  
  <transmission name="trans5">
    <type>transmission_interface/SimpleTransmission</type>
    <joint name="theta5">
      <hardwareInterface>hardware_interface/EffortJointInterface</hardwareInterface>
    </joint>
    <actuator name="motor5">
      <mechanicalReduction>1</mechanicalReduction>
      <hardwareInterface>hardware_interface/EffortJointInterface</hardwareInterface>
    </actuator>
  </transmission>
  
  <transmission name="trans6">
    <type>transmission_interface/SimpleTransmission</type>
    <joint name="theta6">
      <hardwareInterface>hardware_interface/EffortJointInterface</hardwareInterface>
    </joint>
    <actuator name="motor6">
      <mechanicalReduction>1</mechanicalReduction>
      <hardwareInterface>hardware_interface/EffortJointInterface</hardwareInterface>
    </actuator>
  </transmission>
  
  <transmission name="trans7">
    <type>transmission_interface/SimpleTransmission</type>
    <joint name="theta7">
      <hardwareInterface>hardware_interface/EffortJointInterface</hardwareInterface>
    </joint>
    <actuator name="motor7">
      <mechanicalReduction>1</mechanicalReduction>
      <hardwareInterface>hardware_interface/EffortJointInterface</hardwareInterface>
    </actuator>
  </transmission>

  <transmission name="trans8">
    <type>transmission_interface/SimpleTransmission</type>
    <joint name="theta8">
      <hardwareInterface>hardware_interface/EffortJointInterface</hardwareInterface>
    </joint>
    <actuator name="motor8">
      <mechanicalReduction>1</mechanicalReduction>
      <hardwareInterface>hardware_interface/EffortJointInterface</hardwareInterface>
    </actuator>
  </transmission>

  <transmission name="trans9">
    <type>transmission_interface/SimpleTransmission</type>
    <joint name="theta9">
      <hardwareInterface>hardware_interface/EffortJointInterface</hardwareInterface>
    </joint>
    <actuator name="motor9">
      <mechanicalReduction>1</mechanicalReduction>
      <hardwareInterface>hardware_interface/EffortJointInterface</hardwareInterface>
    </actuator>
  </transmission>

  <transmission name="trans10">
    <type>transmission_interface/SimpleTransmission</type>
    <joint name="theta10">
      <hardwareInterface>hardware_interface/EffortJointInterface</hardwareInterface>
    </joint>
    <actuator name="motor10">
      <mechanicalReduction>1</mechanicalReduction>
      <hardwareInterface>hardware_interface/EffortJointInterface</hardwareInterface>
    </actuator>
  </transmission>

  <transmission name="trans11">
    <type>transmission_interface/SimpleTransmission</type>
    <joint name="theta11">
      <hardwareInterface>hardware_interface/EffortJointInterface</hardwareInterface>
    </joint>
    <actuator name="motor11">
      <mechanicalReduction>1</mechanicalReduction>
      <hardwareInterface>hardware_interface/EffortJointInterface</hardwareInterface>
    </actuator>
  </transmission>

  <transmission name="trans12">
    <type>transmission_interface/SimpleTransmission</type>
    <joint name="theta12">
      <hardwareInterface>hardware_interface/EffortJointInterface</hardwareInterface>
    </joint>
    <actuator name="motor12">
      <mechanicalReduction>1</mechanicalReduction>
      <hardwareInterface>hardware_interface/EffortJointInterface</hardwareInterface>
    </actuator>
  </transmission>

  
  <!-- *************************************************** -->
  <!-- *************** Gazebo Controllers **************** -->
  <!-- *************************************************** -->

  <gazebo>
    <plugin name="gazebo_ros_control" filename="libgazebo_ros_control.so">
      <robotNamespace>/twelvedof</robotNamespace>
      <robotSimType>gazebo_ros_control/DefaultRobotHWSim</robotSimType>
    </plugin>
  </gazebo>



</robot>
